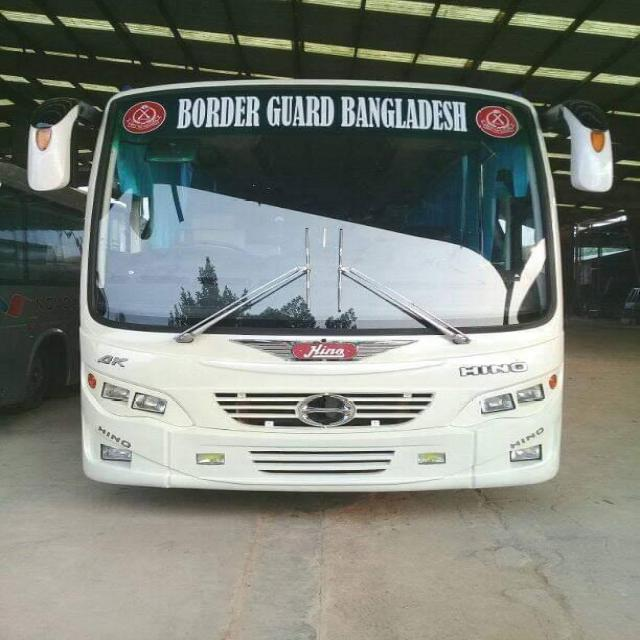bus: (24, 74, 617, 493)
